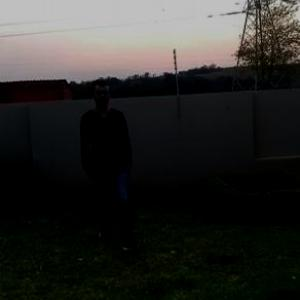follow: (78, 78, 135, 252)
